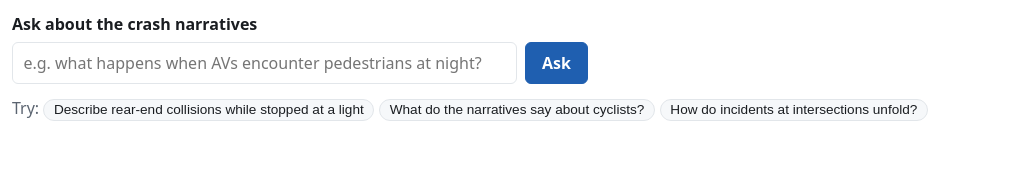
Scenario: RagAsk › renders a refusal as an honest notice, not an answer
Type "what is the meaning of life?" into the field labelled "Ask about the crash narratives" at (265, 63), box [12,42,517,84]
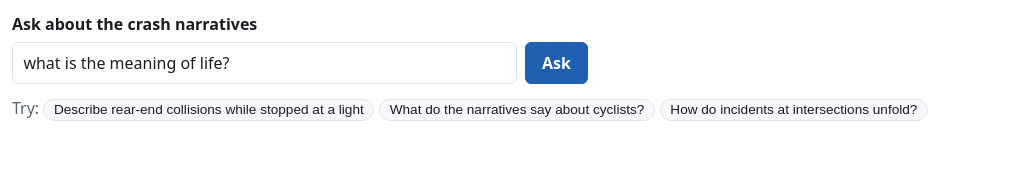
Submit the form, box [12,13,588,84]
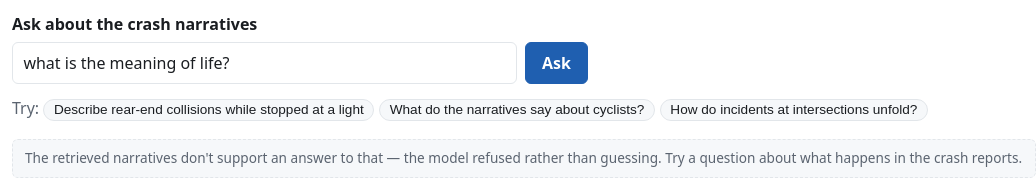
Expected: the text with class "notice" is shown, [12,139,1035,178]
Expected: the text "refused rather than guessing" is shown, [25,148,1022,167]
